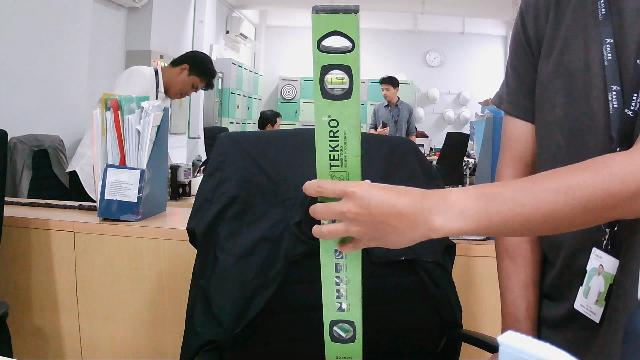water_pass: (302, 4, 375, 360)
